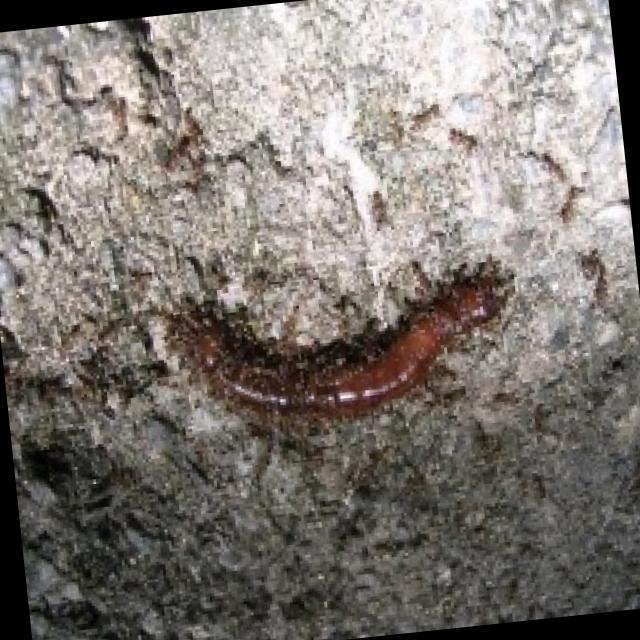armyworm: (160, 246, 533, 457)
